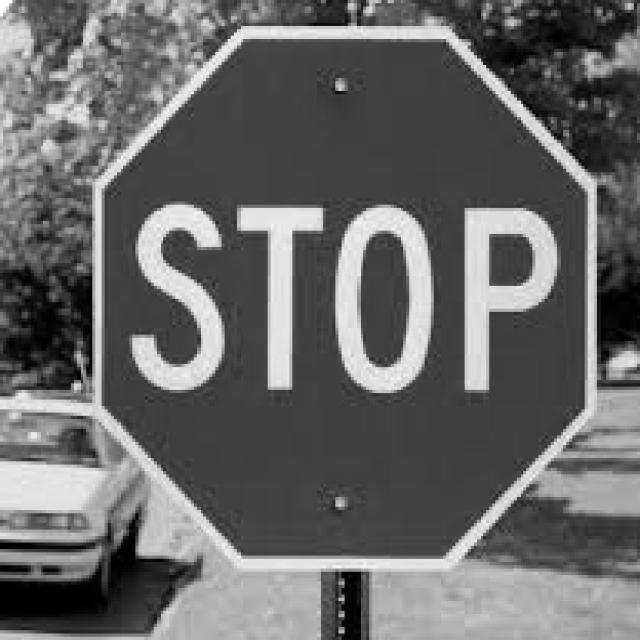Stop-signs: (96, 29, 599, 570)
